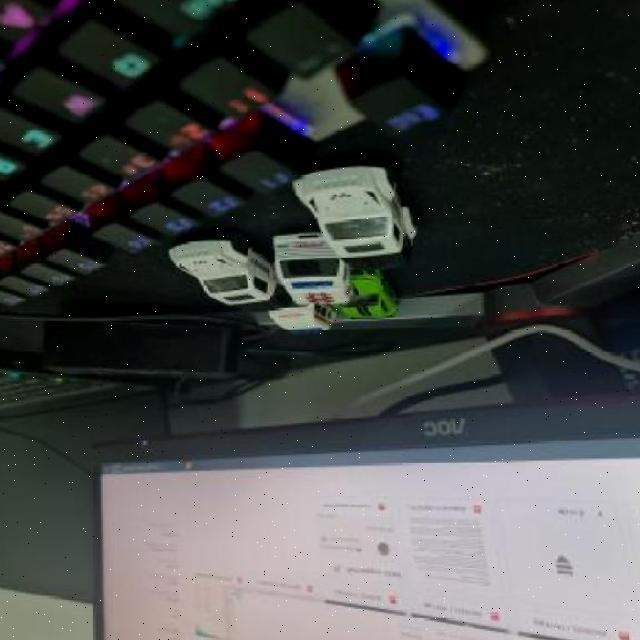car: (291, 156, 424, 268), (165, 228, 282, 310), (262, 228, 356, 310), (330, 266, 402, 324), (264, 300, 336, 342)
